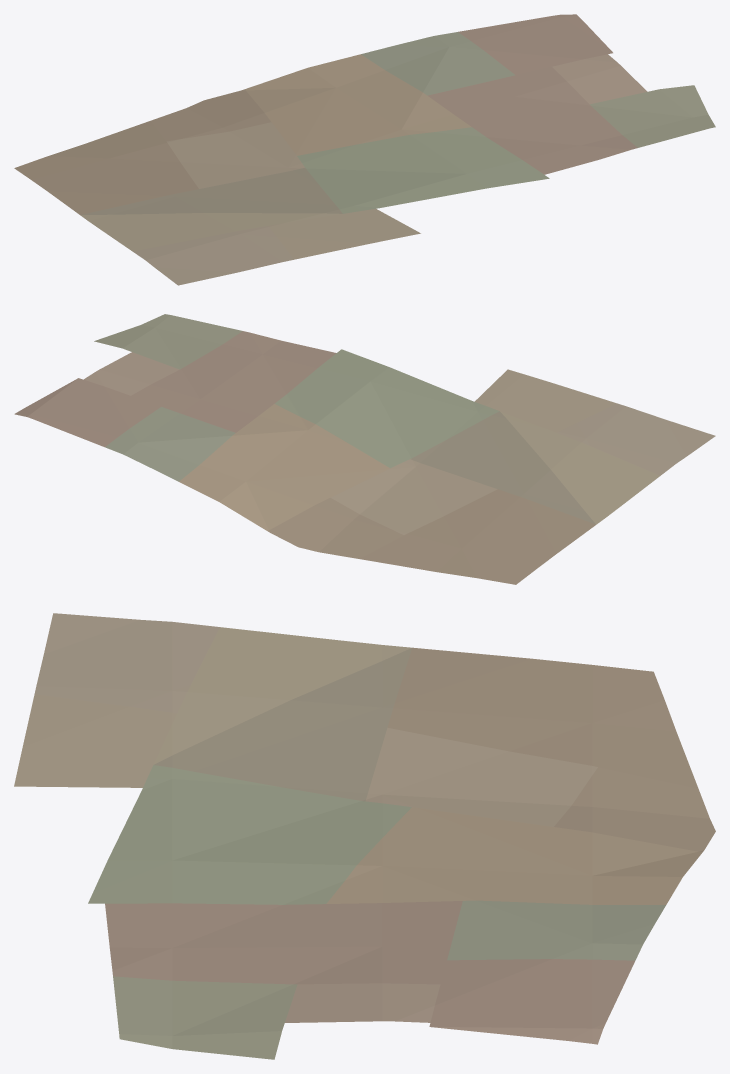
Rendered from farm_15_13_soil.glb.
The picture shows the model from 3 angles, top to bottom: view 1: azimuth 30°, elevation 25°; view 2: azimuth 150°, elevation 25°; view 3: azimuth 270°, elevation 25°; orthographic projection. The views are drawn at different scales.
Visible parts, largest first — view 1: geometry_0; view 2: geometry_0; view 3: geometry_0.
Boxes of the visible parts, bbox=[...] form: geometry_0: bbox=[14, 14, 715, 285]; geometry_0: bbox=[14, 314, 715, 584]; geometry_0: bbox=[14, 613, 715, 1059].
Bounding box in the file's own units: 413 × 25.11 × 268.
